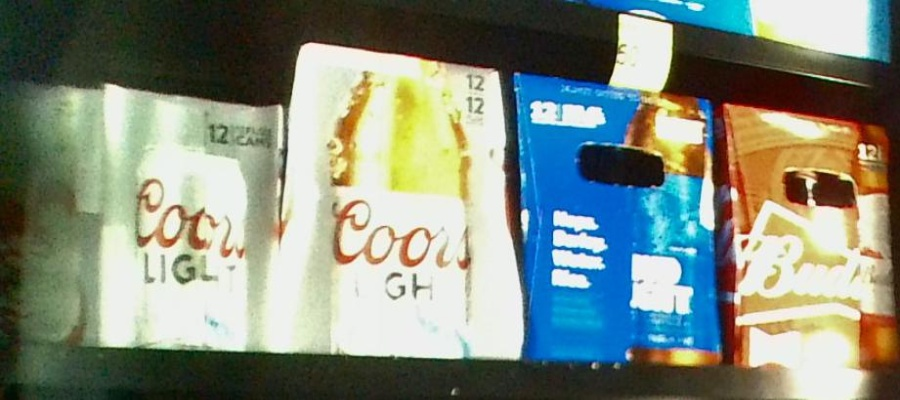bottle: (287, 39, 517, 356), (515, 72, 726, 367), (721, 105, 900, 371), (104, 82, 283, 346), (4, 85, 98, 343)
